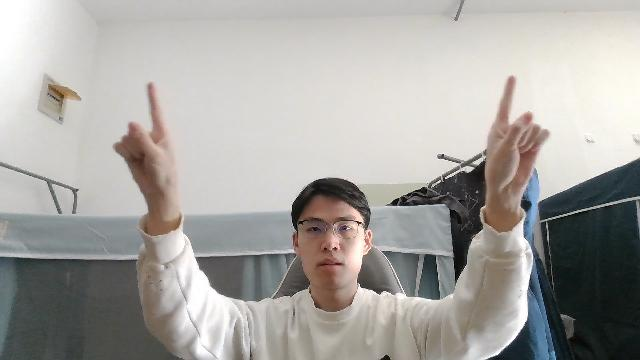one: (476, 68, 553, 221), (110, 77, 184, 218)
